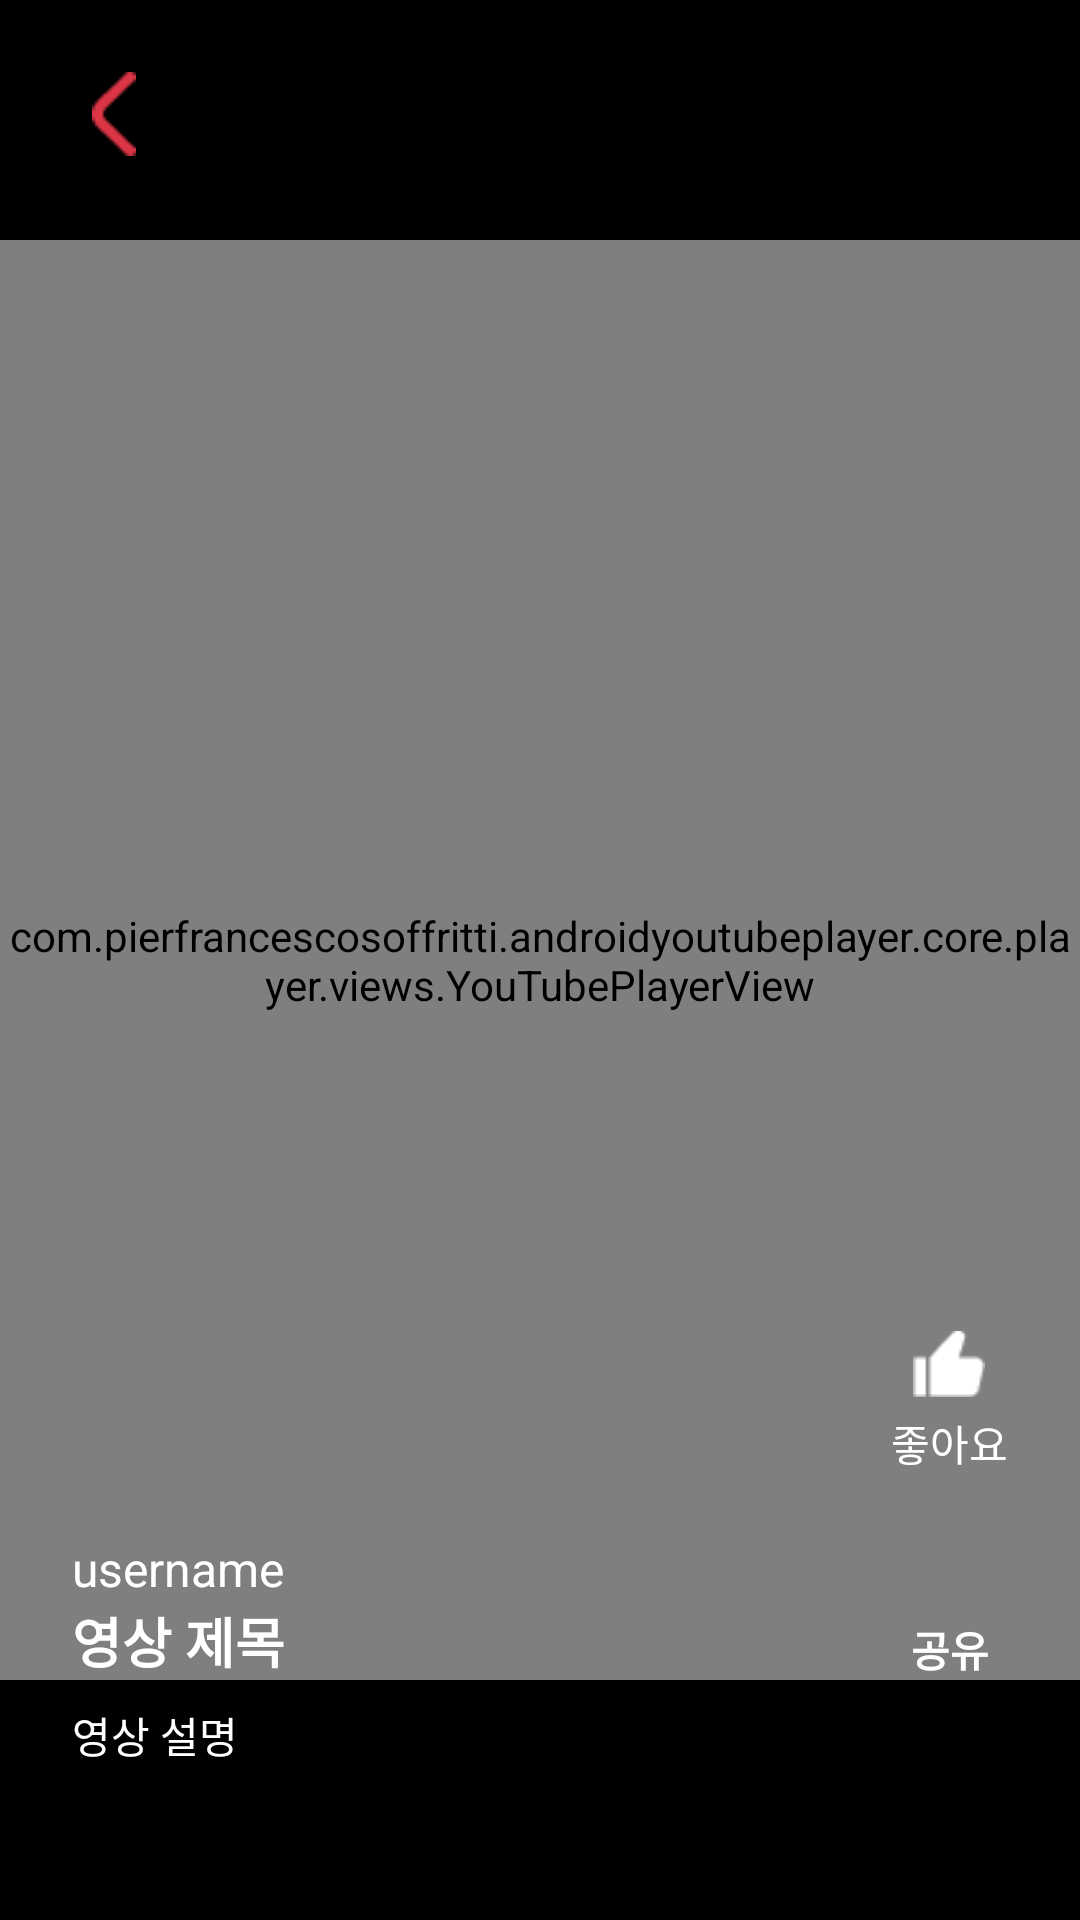

Where to tap for icons on this 1080*1920 app screen, as [x,y]:
back: [114,114]
